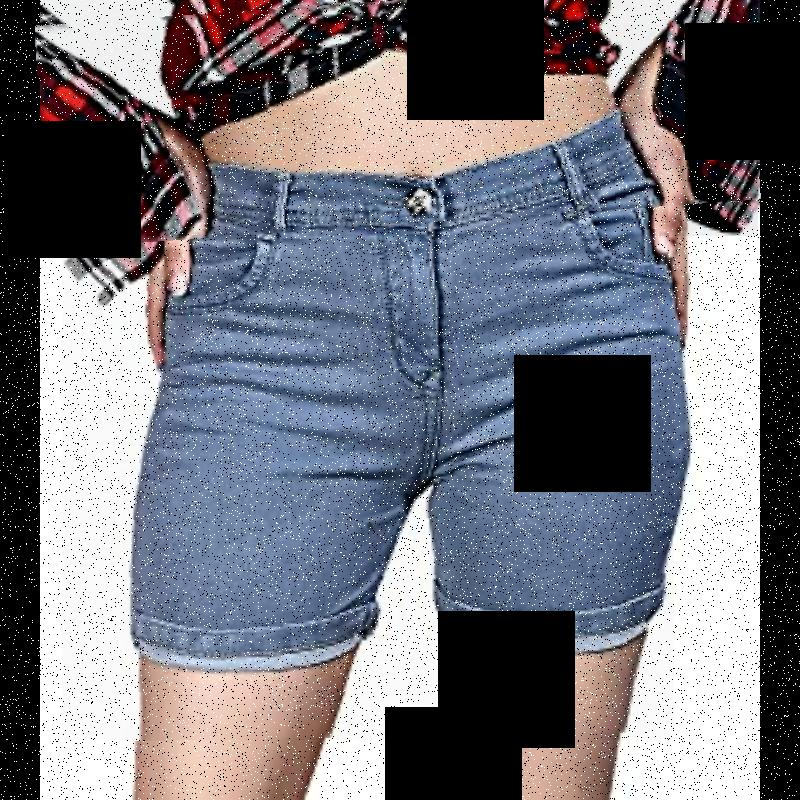Shirt: (38, 0, 758, 236)
Shorts: (62, 124, 674, 740)
